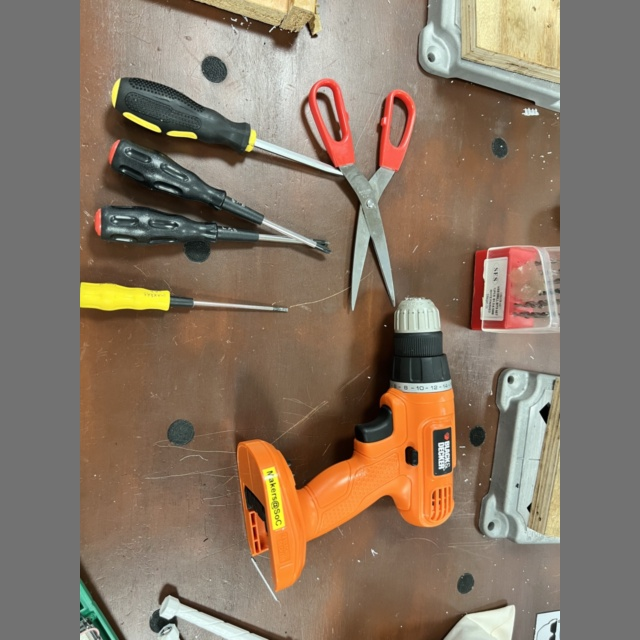drill: (237, 297, 456, 590)
scissor: (308, 79, 416, 310)
screwdriver: (106, 138, 330, 253), (111, 78, 341, 175), (95, 206, 330, 253), (80, 283, 289, 313)
